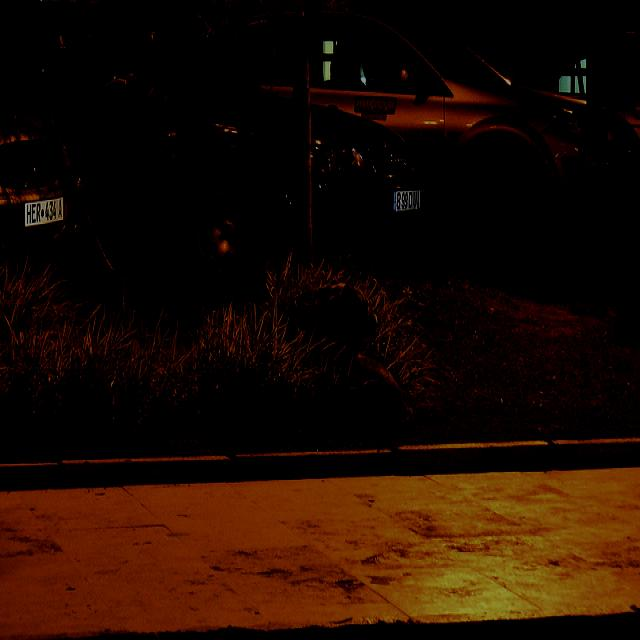Dog: (295, 238, 446, 461)
